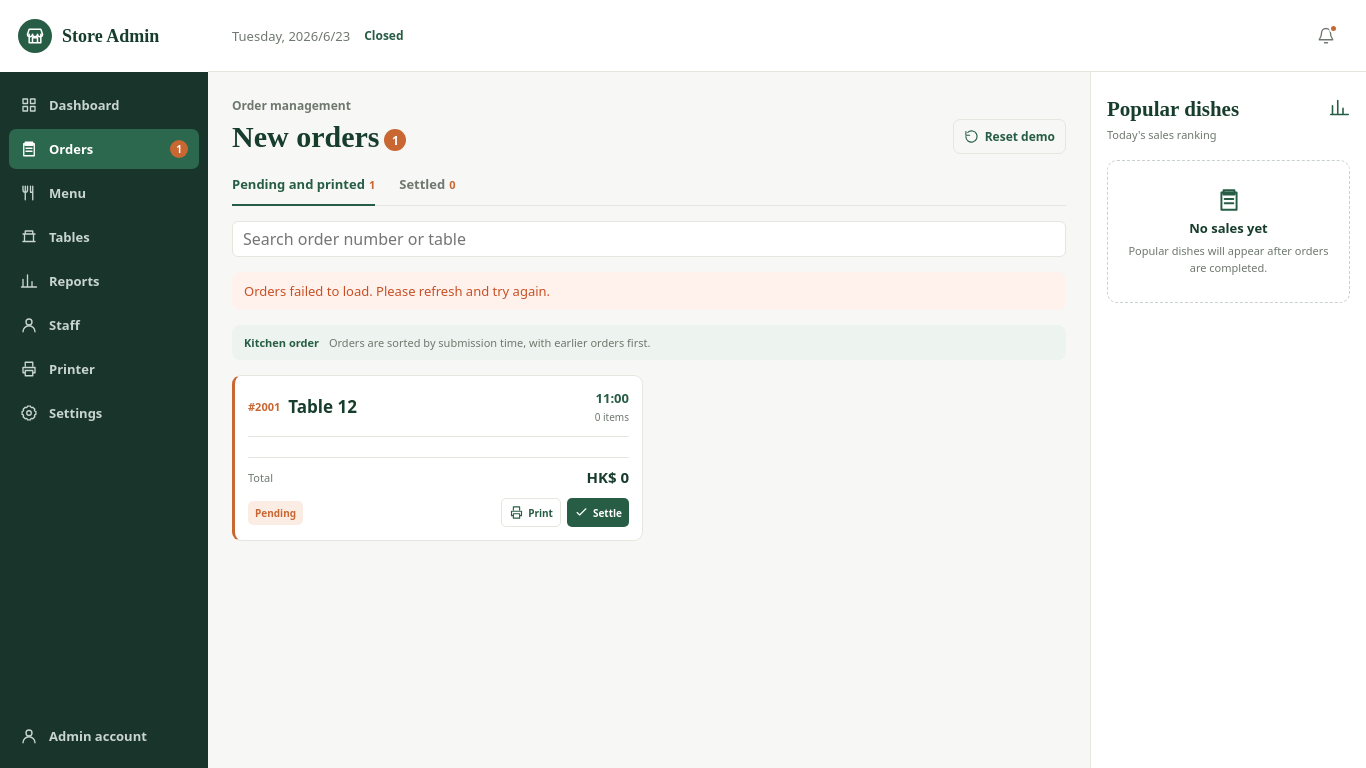
Scenario: AdminApp store integration › shows an error when settlement fails
Click the button "Settle" at (598, 512), box [567,498,629,527]
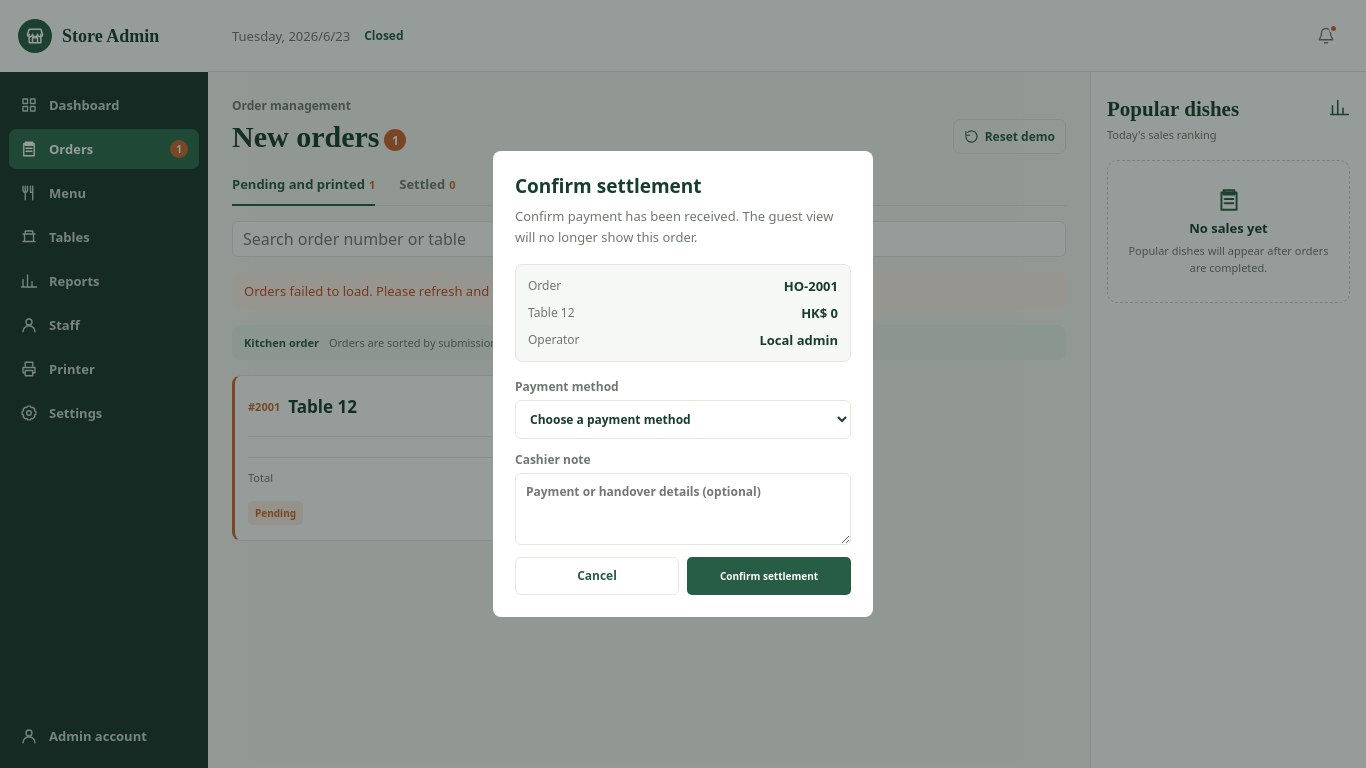
Select "Cash" in the dropdown labelled "Payment method" at (683, 419), box [515,400,851,439]
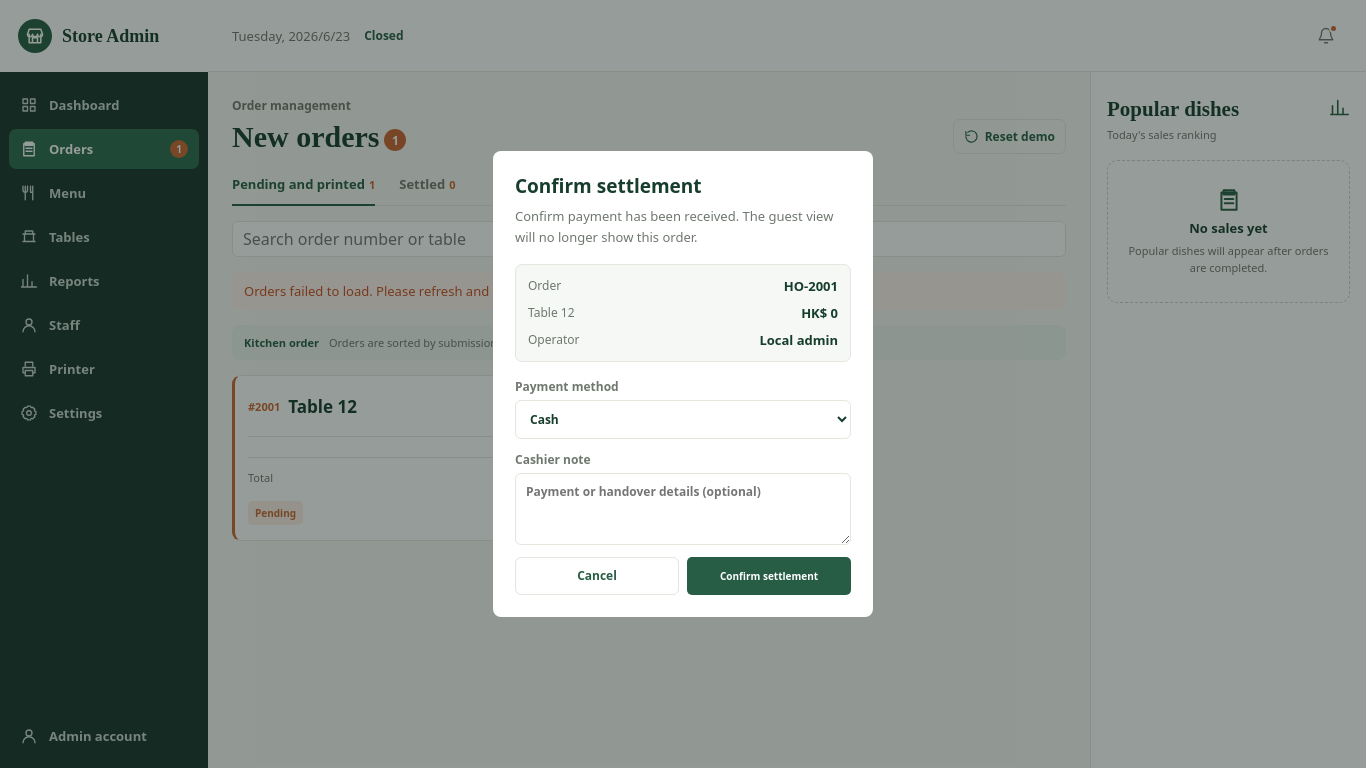
Click the button "Confirm settlement" at (769, 576), box [687,557,851,595]
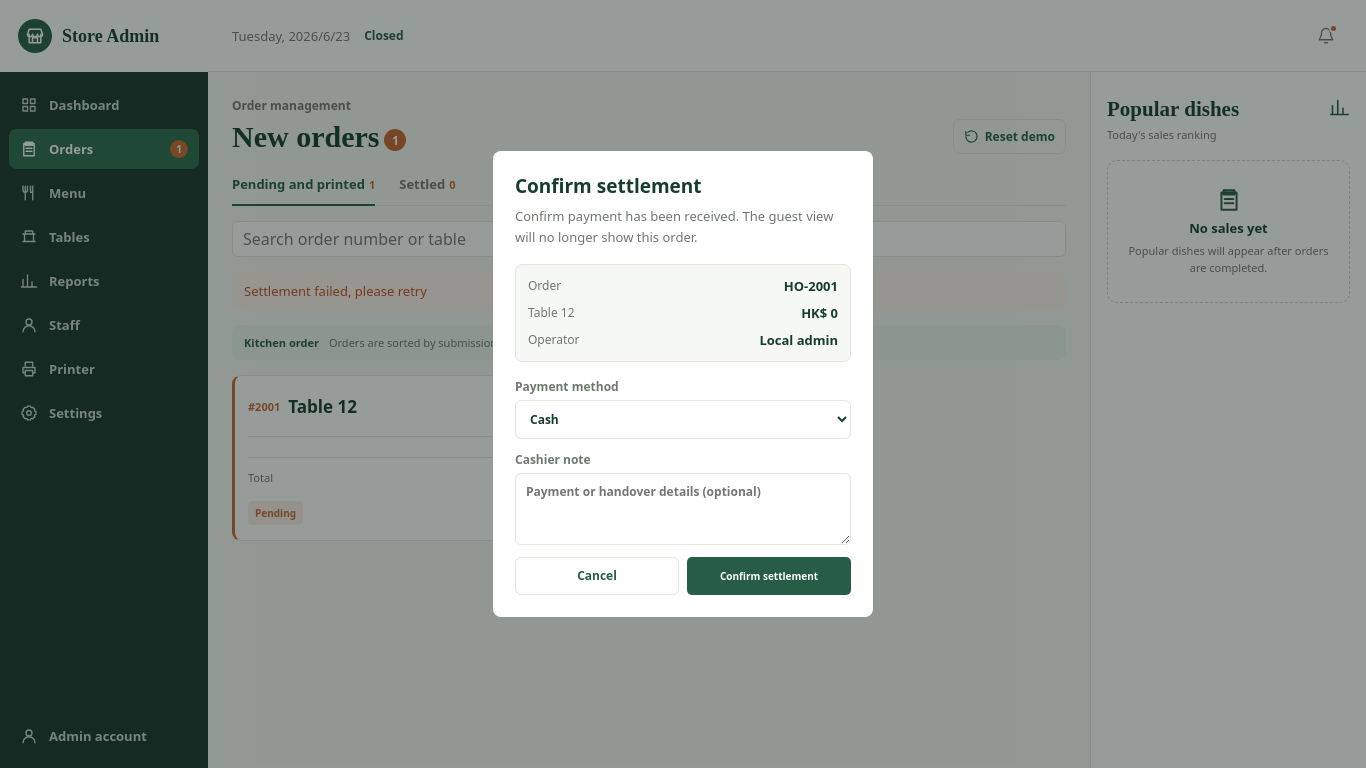
Expected: the text "Settlement failed, please retry" is shown, [232,272,1066,310]
